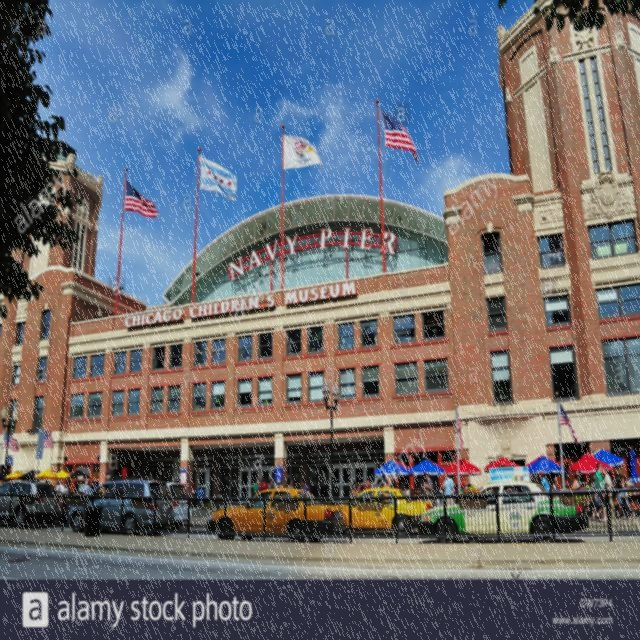pessoa: (616, 465, 636, 520), (587, 470, 606, 522), (594, 462, 607, 523), (602, 466, 616, 519), (614, 466, 624, 520), (258, 476, 270, 518), (442, 472, 454, 506), (264, 478, 274, 507), (538, 469, 550, 492), (422, 472, 434, 494), (570, 472, 582, 491), (63, 482, 70, 511), (81, 480, 92, 496), (350, 481, 360, 498), (252, 477, 261, 495), (90, 481, 96, 508), (300, 478, 310, 493), (362, 478, 372, 492), (354, 480, 362, 494), (59, 480, 67, 494), (563, 474, 570, 488), (268, 476, 276, 488), (434, 484, 442, 496), (55, 480, 61, 494), (148, 474, 160, 481), (390, 479, 398, 489), (286, 478, 294, 488), (171, 477, 181, 483), (453, 484, 459, 494), (551, 482, 558, 490), (506, 486, 513, 494), (408, 492, 418, 497), (490, 487, 496, 493), (400, 488, 406, 493)
